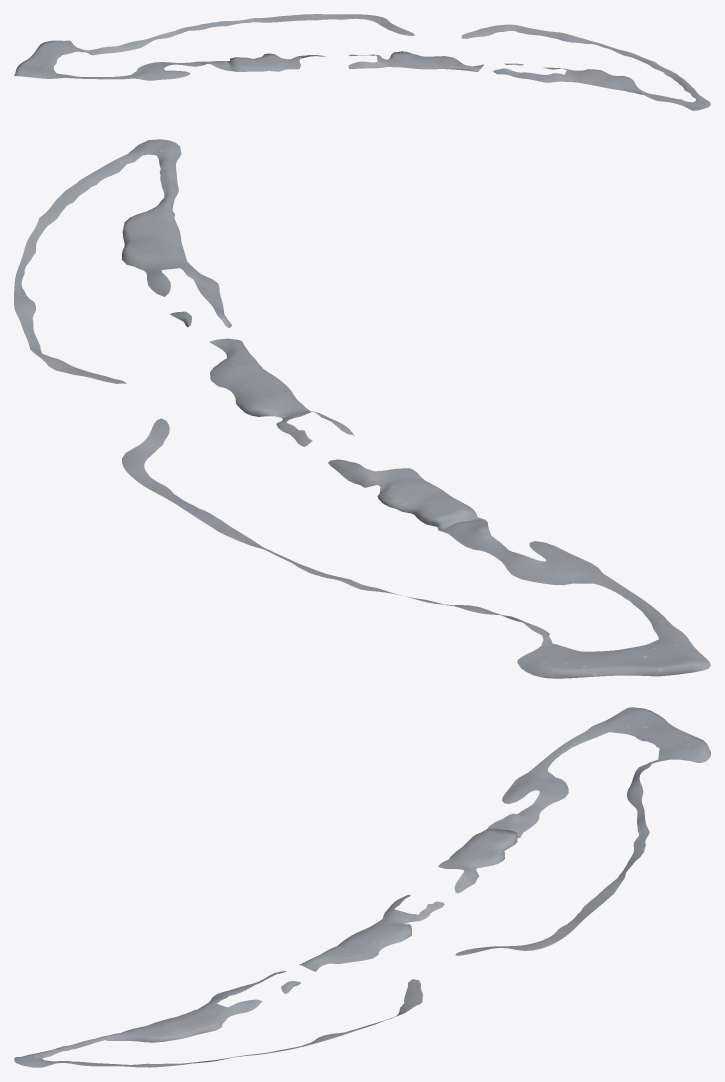
The model's file is pref_sm_beach_winter_red_redsnow01_lv3.fbx.
3 views of the same model, one above another, from view 1: azimuth 30°, elevation 25°; view 2: azimuth 150°, elevation 25°; view 3: azimuth 270°, elevation 25° (orthographic). The views are drawn at different scales.
Visible parts, largest first — view 1: pref_sm_beach_winter_red_redsnow01_lv3; view 2: pref_sm_beach_winter_red_redsnow01_lv3; view 3: pref_sm_beach_winter_red_redsnow01_lv3.
Part boxes in pixels (box(x1,y1,x2,y2)): pref_sm_beach_winter_red_redsnow01_lv3: box(14, 14, 710, 110); pref_sm_beach_winter_red_redsnow01_lv3: box(14, 139, 710, 678); pref_sm_beach_winter_red_redsnow01_lv3: box(14, 707, 710, 1067).
Bounding box in the file's own units: 46.07 × 0.5747 × 37.41.
